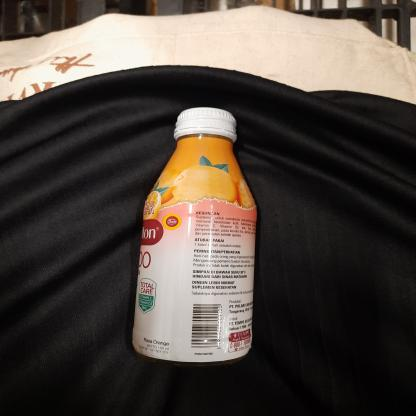glass: (129, 99, 261, 368)
